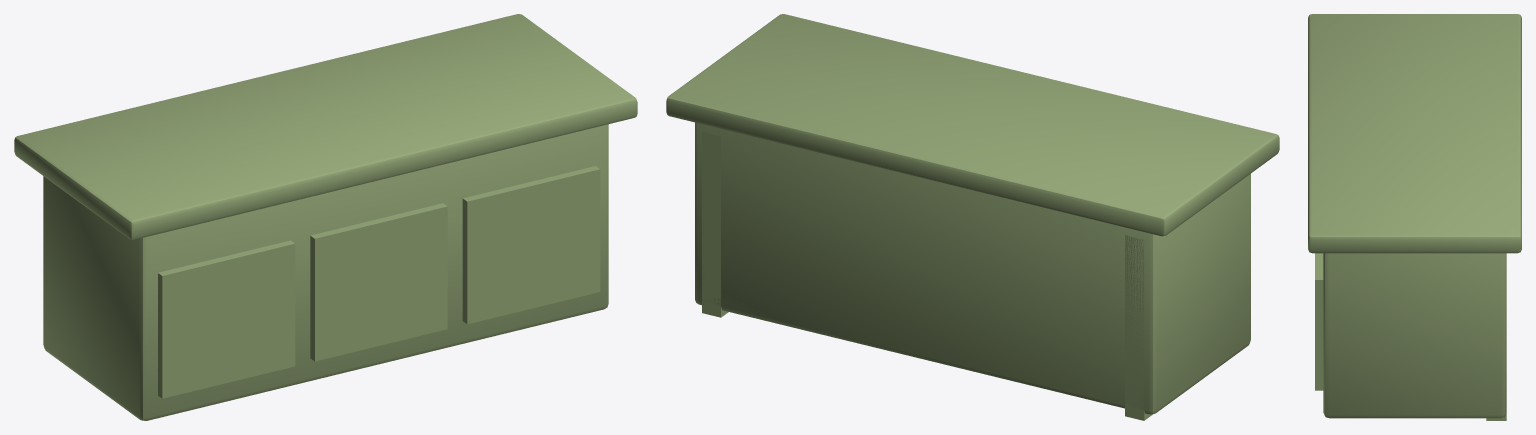
File: gen-market-stall-counter-1.glb
3 views of the same model, side by side, from view 1: azimuth 30°, elevation 25°; view 2: azimuth 150°, elevation 25°; view 3: azimuth 270°, elevation 25° (orthographic). The views are drawn at different scales.
Parts seen in each view (by area): view 1: gen-market-stall-counter-1_part1; view 2: gen-market-stall-counter-1_part1; view 3: gen-market-stall-counter-1_part1.
Boxes of the visible parts, box(x1,y1,x2,y2) form: gen-market-stall-counter-1_part1: box(14, 14, 637, 420); gen-market-stall-counter-1_part1: box(666, 14, 1279, 420); gen-market-stall-counter-1_part1: box(1308, 14, 1521, 420).
Size of the model in its own units: 2600 by 1070 by 1050.
